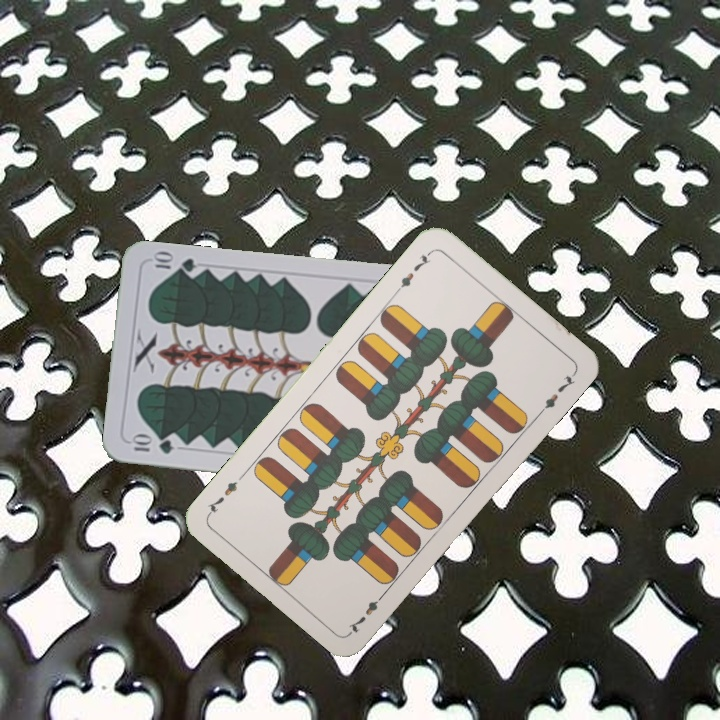E7: (344, 587, 389, 636), (391, 246, 435, 295)
G10: (126, 433, 176, 456)
